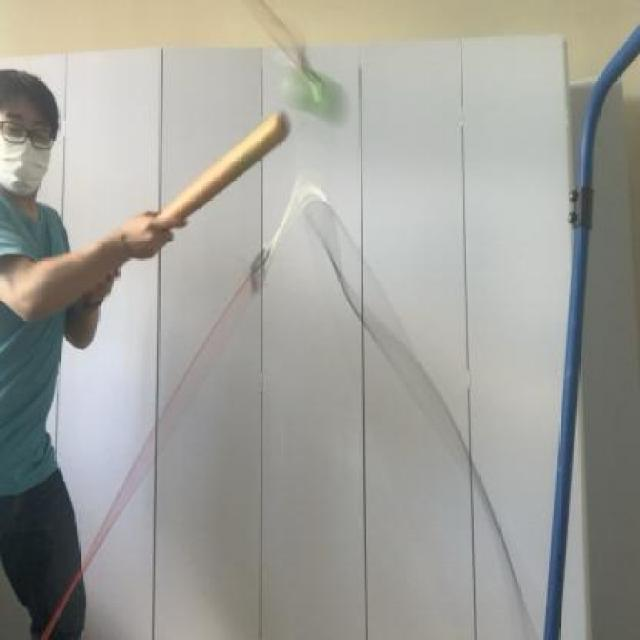baseball: (280, 58, 354, 136)
